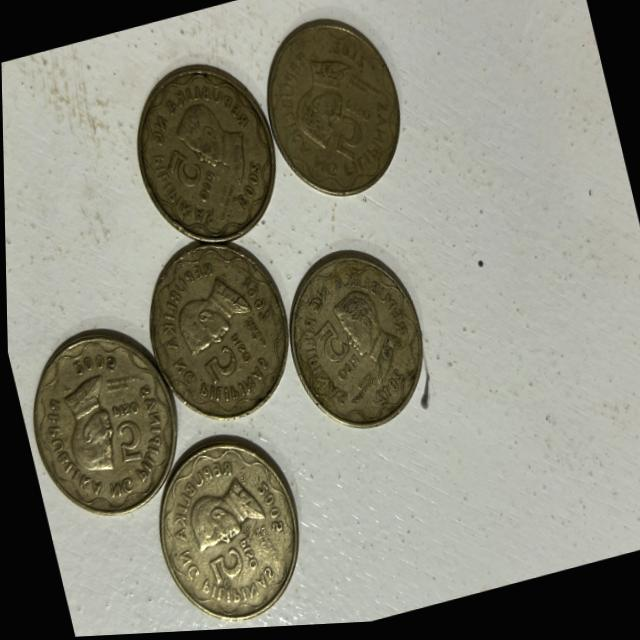5_Old_Front: (96, 381, 163, 478), (300, 308, 366, 399), (161, 133, 228, 212), (324, 91, 386, 168), (197, 335, 254, 408), (201, 532, 270, 591)
